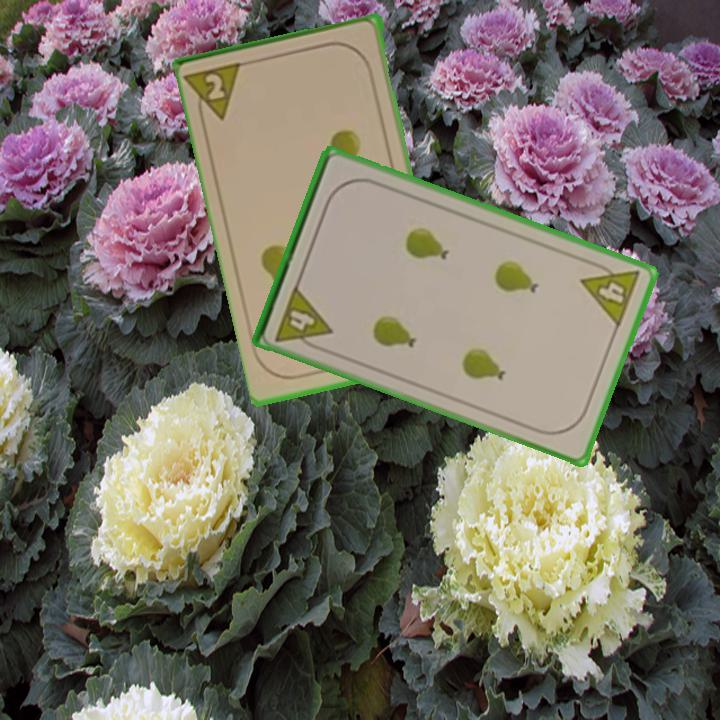2p: (184, 59, 249, 128)
4p: (577, 256, 644, 330), (272, 281, 335, 354)
